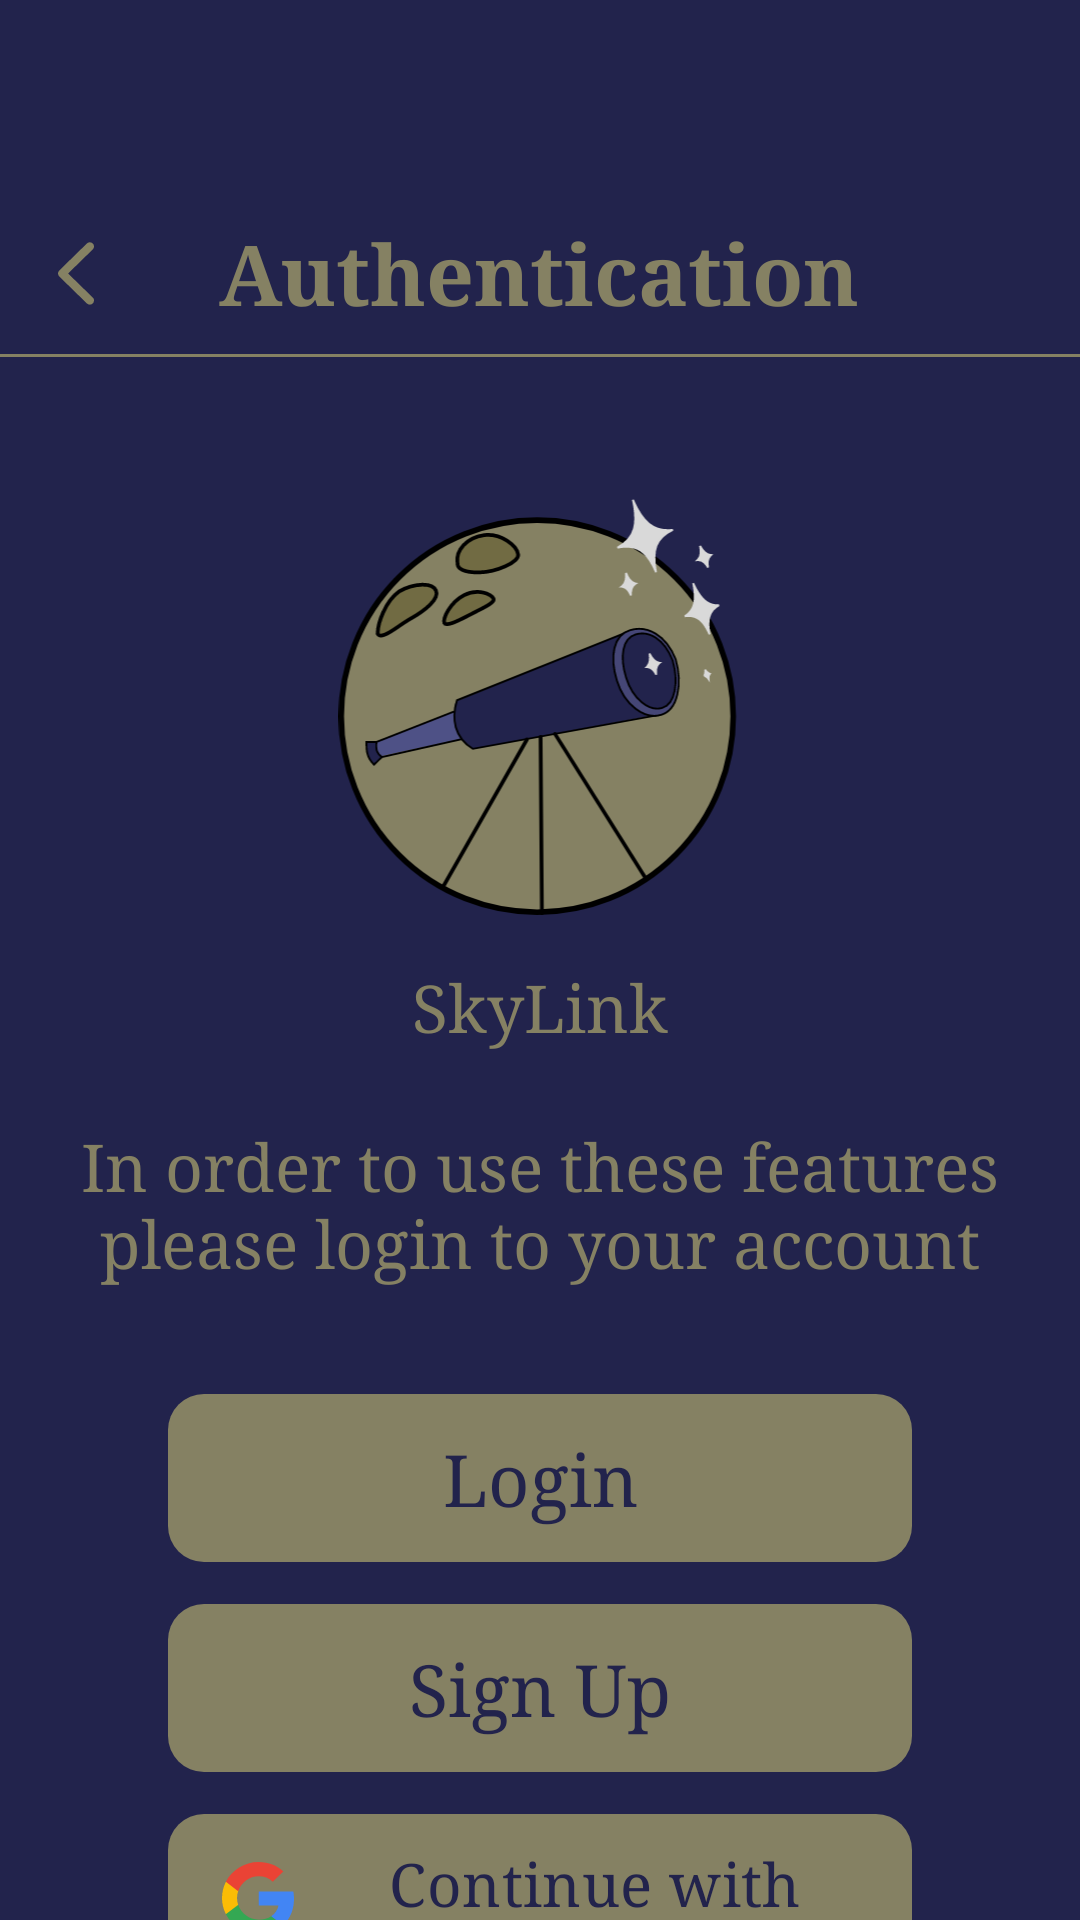

Point at icon controls on the screen. Image size 1080x1920, points as (x,y).
Back: (76,273)
